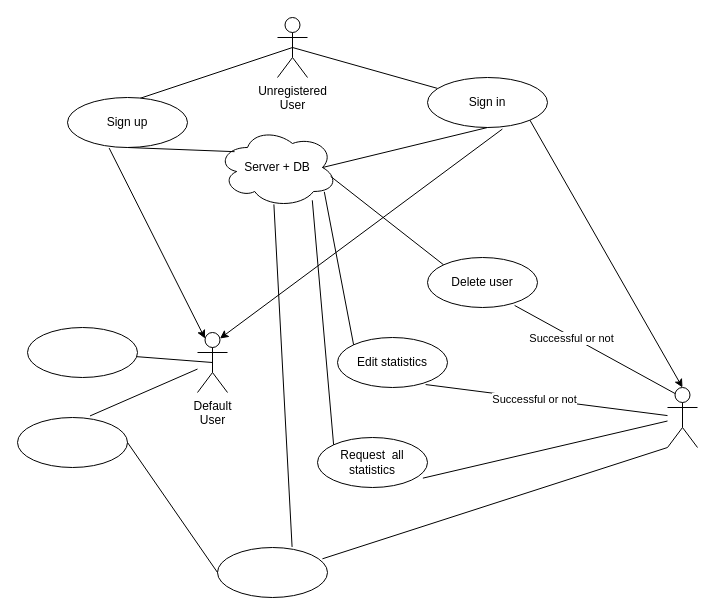
Some shapes in this 717 by 615 pixel diagram are drawn without their labels. Here are the shapes that lost their labels. From the top down, the centre of each, then its label:
At (82,352): "Encrypt".
At (682,417): "Admin".
At (72,442): "Hash".
At (272,572): "Request personal statistics".
